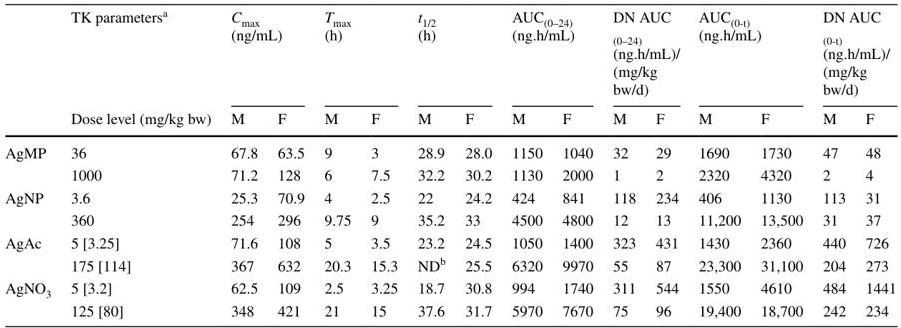table: (4, 4, 895, 323)
table column: (60, 4, 220, 323), (688, 4, 750, 323), (750, 4, 812, 323), (4, 4, 60, 323), (501, 4, 552, 323), (552, 4, 602, 323), (220, 4, 267, 323), (267, 4, 314, 323), (360, 4, 407, 323), (407, 4, 454, 323), (454, 4, 501, 323), (314, 4, 360, 323), (602, 4, 645, 323), (645, 4, 688, 323), (812, 4, 855, 323), (855, 4, 895, 323)
table column header: (4, 4, 895, 136)
table row: (4, 4, 895, 104), (4, 104, 895, 136), (4, 136, 895, 164), (4, 164, 895, 187), (4, 209, 895, 232), (4, 254, 895, 277), (4, 277, 895, 300), (4, 300, 895, 323), (4, 187, 895, 209), (4, 232, 895, 254)
table spanning cell: (60, 4, 220, 136), (688, 4, 812, 104), (501, 4, 602, 104), (220, 4, 314, 104), (407, 4, 501, 104), (314, 4, 407, 104), (602, 4, 688, 104), (812, 4, 895, 104), (4, 136, 60, 187), (4, 277, 60, 323), (4, 187, 60, 232), (4, 232, 60, 277)
